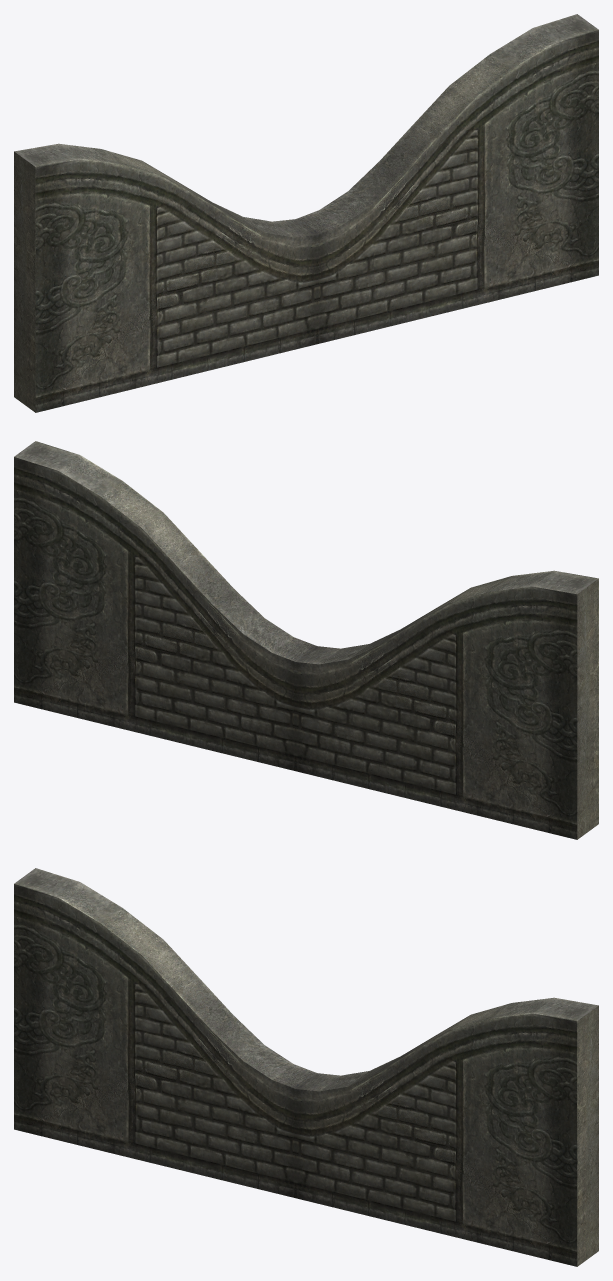
Rendered from dawnmist_wall01.fbx.
The picture shows the model from 3 angles, top to bottom: view 1: azimuth 30°, elevation 25°; view 2: azimuth 150°, elevation 25°; view 3: azimuth 330°, elevation 25°; orthographic projection.
Parts seen in each view (by area): view 1: DawnMist_wall01; view 2: DawnMist_wall01; view 3: DawnMist_wall01.
Part boxes in pixels (left/top/right/bottom): DawnMist_wall01: left=14, top=14, right=598, bottom=412; DawnMist_wall01: left=14, top=441, right=598, bottom=839; DawnMist_wall01: left=14, top=868, right=598, bottom=1266.
Size of the model in its own units: 15.67 by 6.53 by 1.04.
